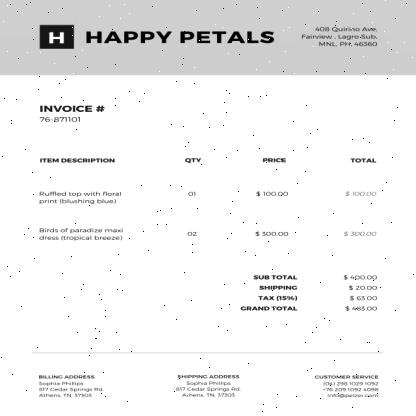Paragraph: (233, 270, 386, 317), (82, 27, 278, 47), (168, 371, 248, 401), (33, 372, 108, 402), (309, 372, 384, 400), (299, 24, 380, 48), (32, 101, 110, 125)
Table: (33, 155, 385, 245)
